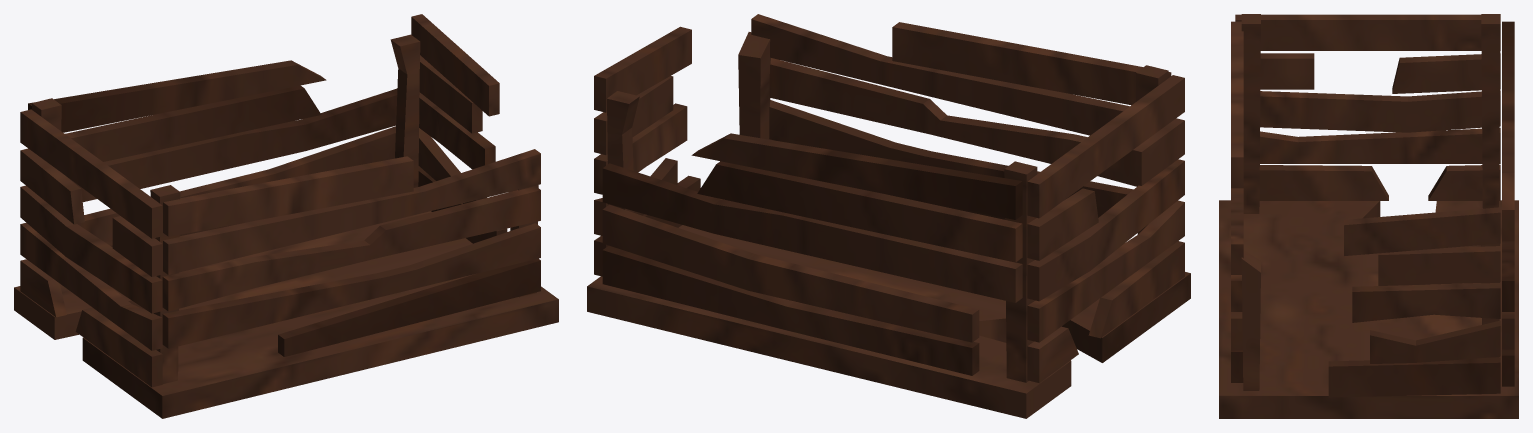
The model's file is Caixa_3_quebrada.glb.
The picture shows the model from 3 angles, left to right: view 1: azimuth 30°, elevation 25°; view 2: azimuth 150°, elevation 25°; view 3: azimuth 270°, elevation 25°; orthographic projection. The views are drawn at different scales.
Parts seen in each view (by area): view 1: Caixa.3.quebrada; view 2: Caixa.3.quebrada; view 3: Caixa.3.quebrada.
Part boxes in pixels (x1,y1,x2,y2): Caixa.3.quebrada: (14, 14, 558, 418); Caixa.3.quebrada: (587, 14, 1190, 418); Caixa.3.quebrada: (1219, 14, 1518, 418).
Bounding box in the file's own units: 1.63 × 0.8151 × 1.04.
Materials: 1 (1 with a texture image).
